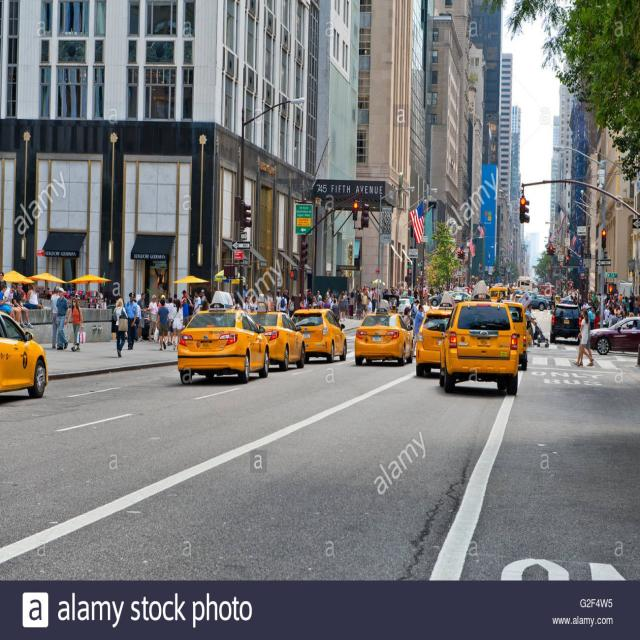body: (560, 286, 640, 307), (572, 307, 594, 368), (67, 295, 87, 352), (11, 281, 34, 330), (576, 308, 594, 368), (112, 297, 128, 358), (123, 290, 138, 350), (442, 277, 517, 289), (55, 286, 69, 350), (0, 283, 21, 325), (411, 303, 427, 358), (156, 296, 171, 351), (171, 298, 184, 350), (523, 303, 538, 347), (50, 286, 60, 349), (136, 291, 148, 342), (364, 284, 412, 296), (165, 296, 175, 346), (148, 293, 158, 342), (412, 281, 442, 297), (22, 282, 39, 310), (132, 298, 142, 343), (181, 296, 193, 328), (410, 300, 420, 337), (4, 282, 18, 308), (614, 306, 640, 317), (338, 291, 347, 322), (411, 299, 420, 329), (192, 290, 202, 316), (277, 292, 288, 314), (356, 288, 364, 318), (403, 306, 414, 327), (587, 306, 596, 331), (356, 292, 364, 320), (331, 298, 340, 322), (274, 289, 283, 312), (287, 295, 296, 318), (266, 289, 275, 312), (385, 296, 398, 311), (608, 308, 617, 329), (342, 289, 348, 319), (349, 291, 355, 320), (363, 296, 372, 315), (593, 310, 601, 330), (354, 283, 360, 309), (0, 270, 7, 292), (244, 295, 252, 314), (549, 292, 557, 311), (157, 294, 167, 309), (297, 292, 303, 317), (228, 291, 236, 309), (362, 290, 368, 314), (283, 290, 290, 310), (604, 304, 611, 323), (252, 294, 259, 313), (165, 290, 174, 304), (306, 288, 312, 309), (328, 292, 335, 310), (625, 320, 637, 330), (323, 296, 332, 309), (242, 283, 249, 299), (181, 289, 188, 304), (469, 289, 475, 306), (201, 300, 209, 312), (316, 294, 324, 306), (372, 296, 378, 312), (311, 296, 318, 309), (200, 289, 207, 301), (293, 295, 299, 309), (496, 292, 503, 304), (582, 299, 590, 309), (20, 288, 27, 299), (315, 290, 321, 302), (51, 284, 55, 302), (506, 291, 510, 308), (300, 300, 306, 310), (326, 287, 331, 299), (333, 294, 338, 305), (173, 293, 178, 302), (509, 292, 514, 300), (124, 331, 128, 340), (522, 311, 528, 317), (122, 296, 125, 307)
